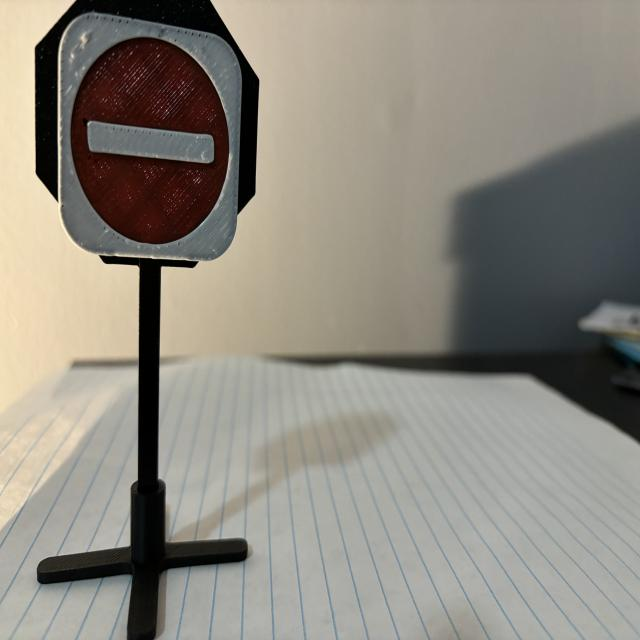sign_noentry: (59, 15, 243, 262)
